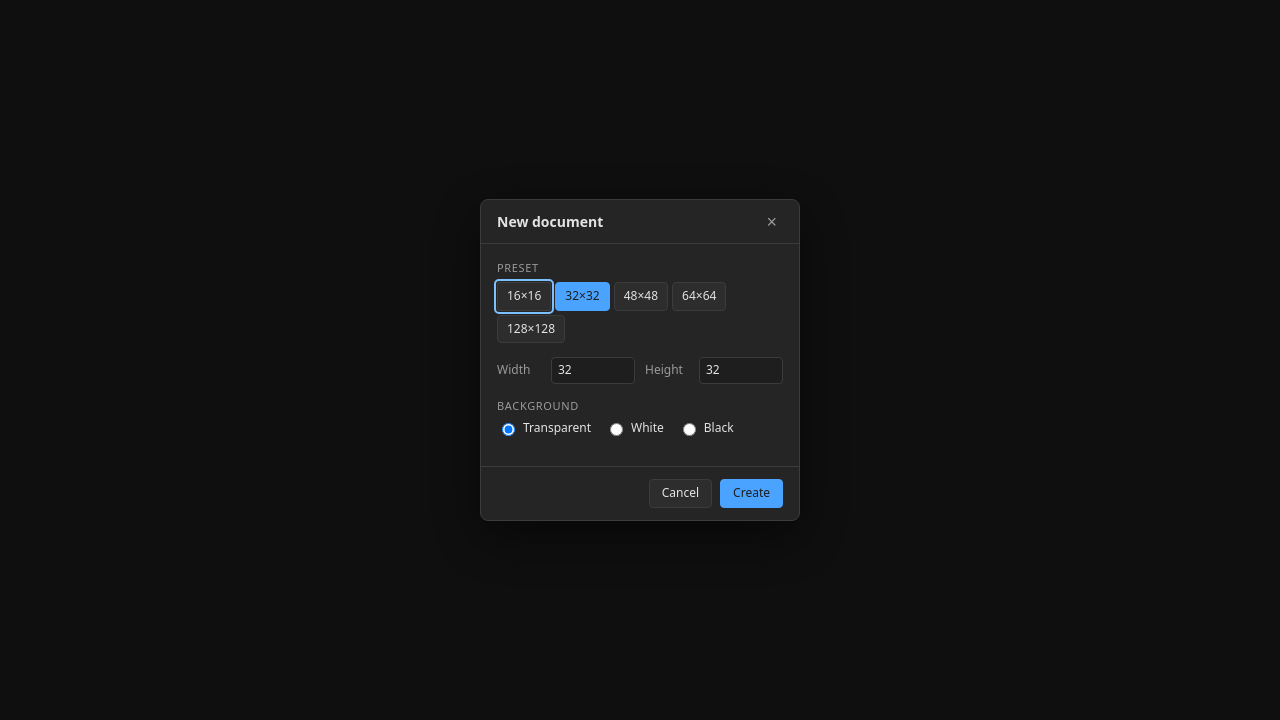
it: NewDocumentDialog › applies a size preset to both fields
What coordinates should you click on to do the following:
click the button "64×64"
I would click on:
 (699, 296)
Its box is left=672, top=282, right=726, bottom=311.
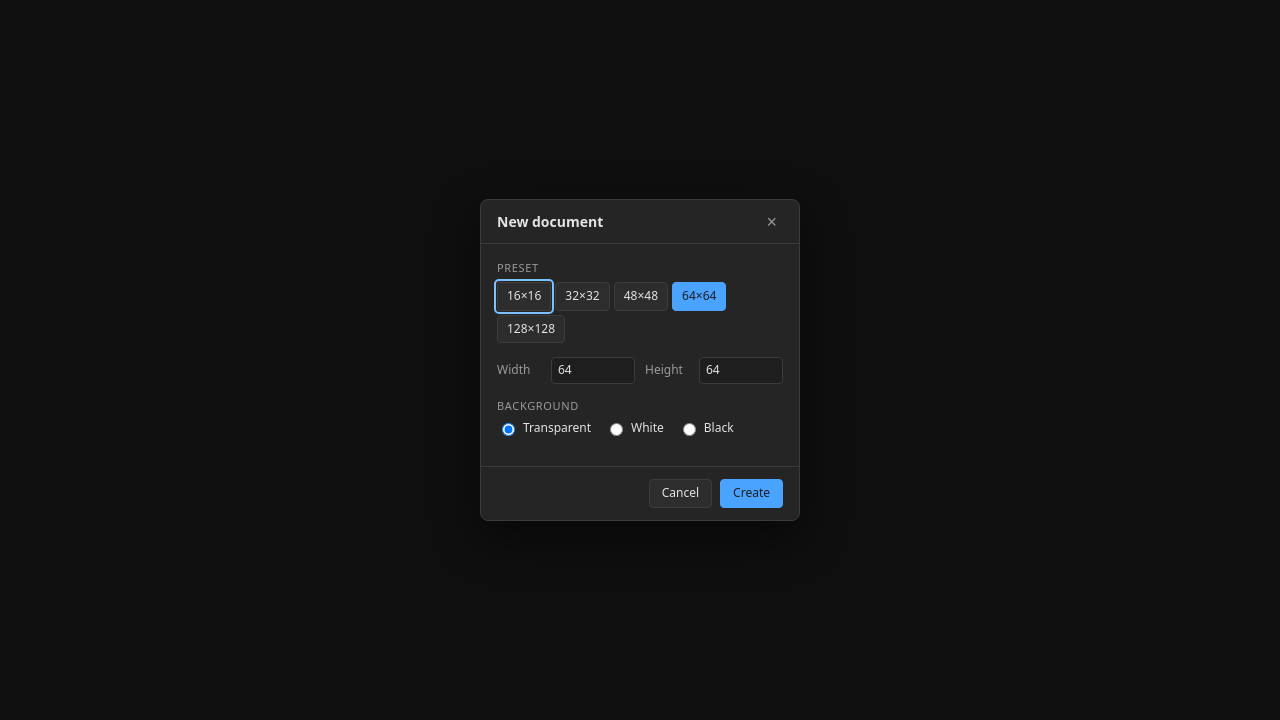
Check: the number field labelled "Width" holds "64", box left=551, top=357, right=635, bottom=384
Check: the number field labelled "Height" holds "64", box left=699, top=357, right=783, bottom=384
